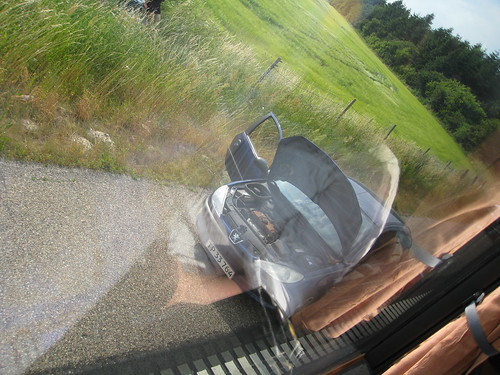car: (203, 126, 419, 330)
grass: (1, 1, 455, 168)
vegetation: (360, 2, 500, 152)
